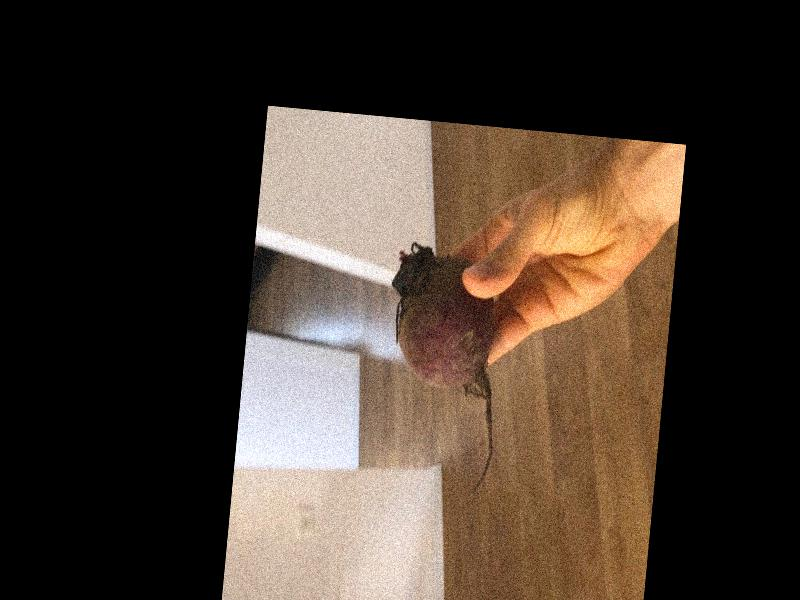Beet: (374, 243, 510, 497)
